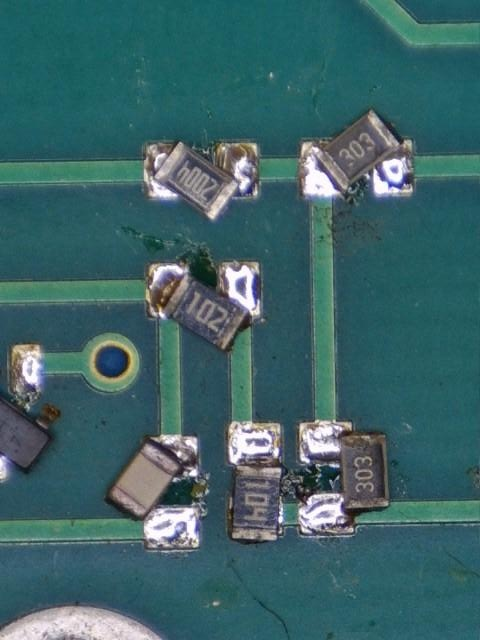pcb_defect: (104, 435, 201, 549), (296, 420, 390, 536), (146, 260, 261, 353), (299, 108, 414, 199), (144, 139, 259, 223), (0, 343, 59, 481), (227, 422, 284, 542)
